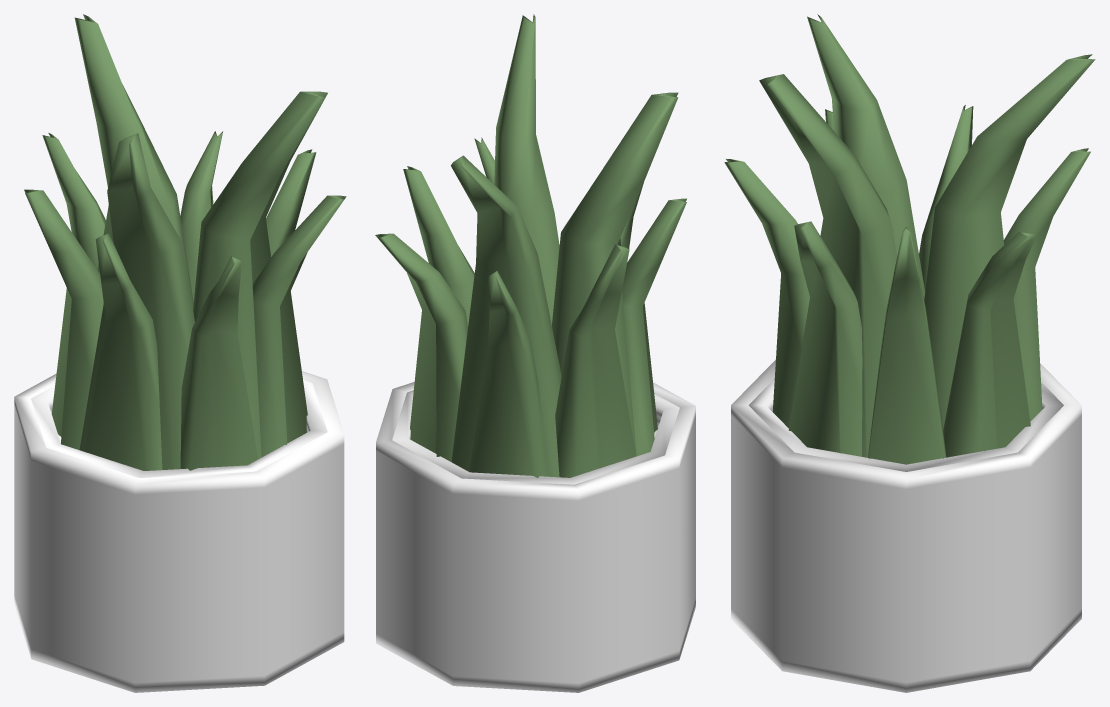
The model's file is plant.glb.
3 views of the same model, side by side, from view 1: azimuth 30°, elevation 25°; view 2: azimuth 150°, elevation 25°; view 3: azimuth 270°, elevation 25° (orthographic). The views are drawn at different scales.
Parts seen in each view (by area): view 1: pot; view 2: pot; view 3: pot.
Boxes of the visible parts, x1,y1,x2,y2 form: pot: [14, 14, 346, 692]; pot: [375, 14, 695, 692]; pot: [724, 14, 1095, 692].
Bounding box in the file's own units: 0.2559 × 0.463 × 0.2709.
